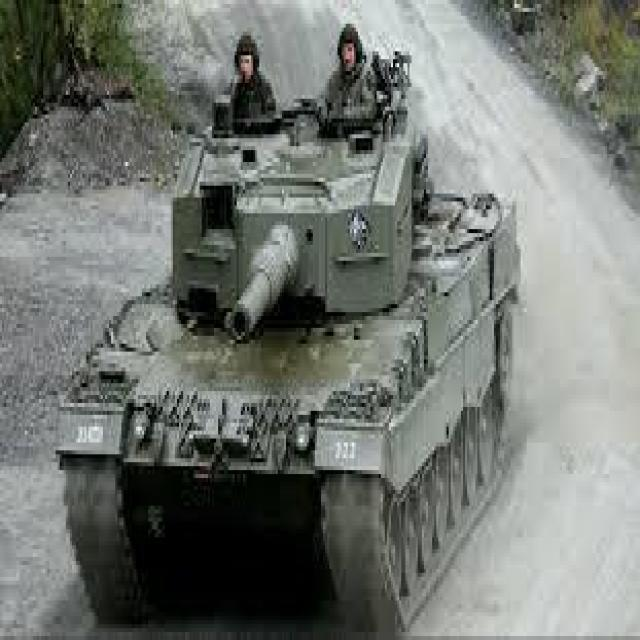Tanks: (54, 42, 528, 622)
